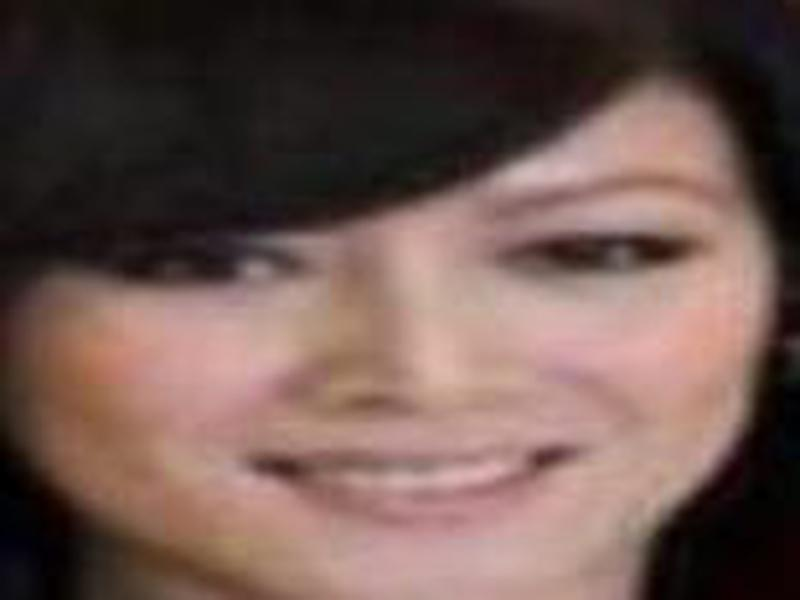without_mask: (4, 140, 781, 600)
